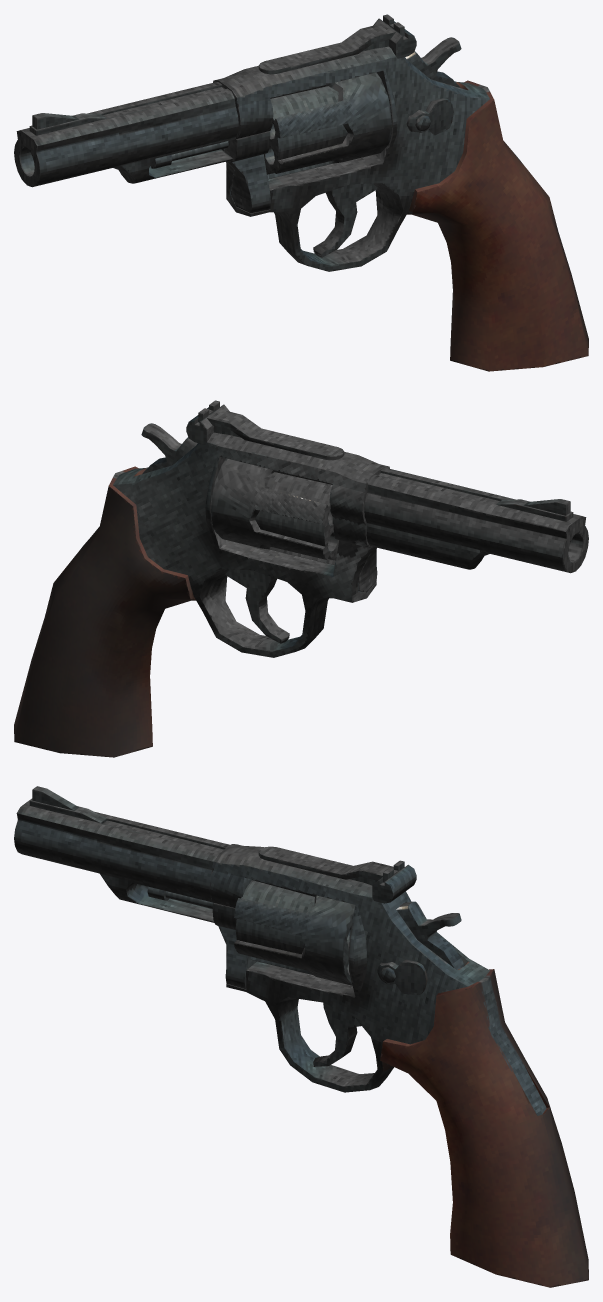
The picture shows the model from 3 angles, top to bottom: view 1: azimuth 30°, elevation 25°; view 2: azimuth 150°, elevation 25°; view 3: azimuth 330°, elevation 25°; orthographic projection.
Parts seen in each view (by area): view 1: revolver_temp; view 2: revolver_temp; view 3: revolver_temp.
Part boxes in pixels (x1,y1,x2,y2): revolver_temp: [14, 14, 588, 371]; revolver_temp: [14, 400, 588, 757]; revolver_temp: [14, 786, 588, 1287].
Bounding box in the file's own units: 10.51 × 6.53 × 1.59.
1 material, 1 textured.
